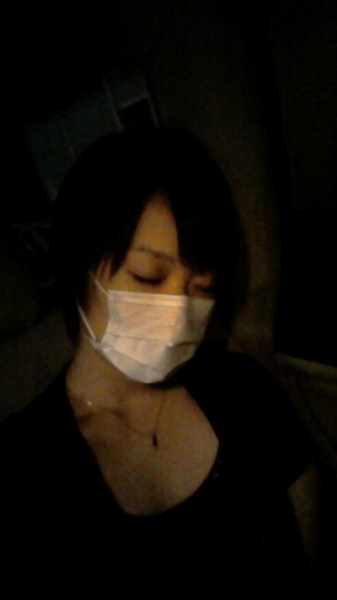face_mask: (104, 206, 218, 384)
